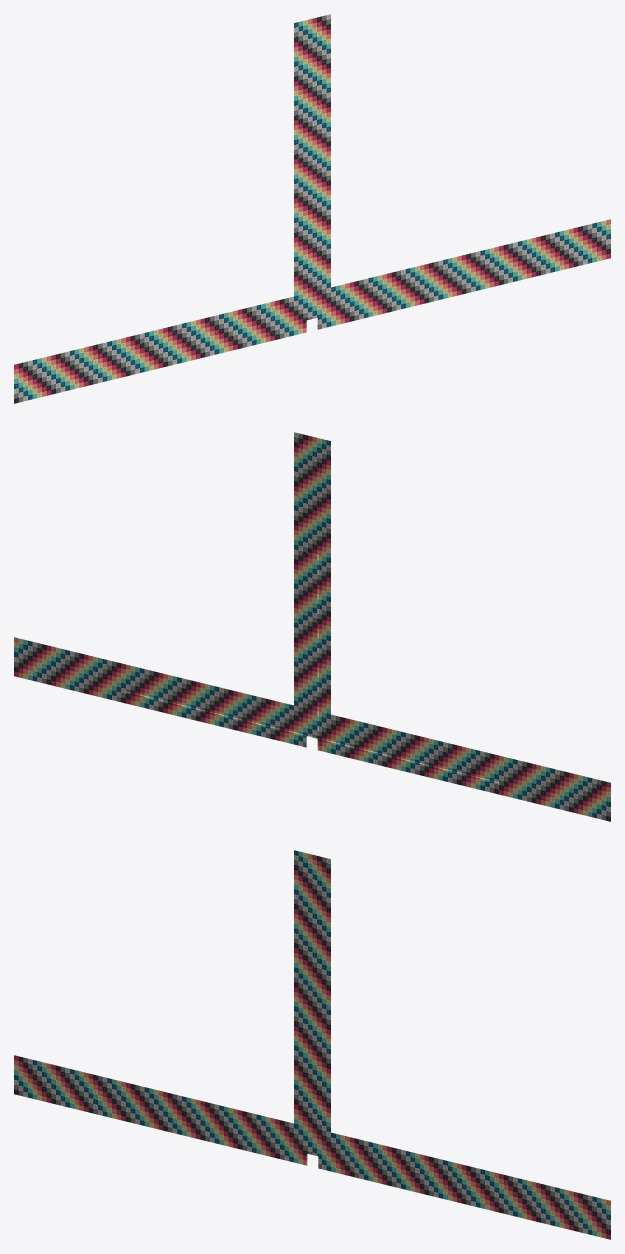
Rendered from wallManualMorph.glb.
3 renders of one model, top to bottom at view 1: azimuth 30°, elevation 25°; view 2: azimuth 150°, elevation 25°; view 3: azimuth 330°, elevation 25°, orthographic.
Visible parts, largest first — view 1: wallMaxWidth, wallHoleMaxWidth, wallMaxHeight, wallHoleMaxHeight, wall; view 2: wallMaxWidth, wallMaxHeight, wallHoleMaxWidth, wallHoleMaxHeight, wall; view 3: wallMaxWidth, wallHoleMaxWidth, wallMaxHeight, wallHoleMaxHeight, wall.
Boxes of the visible parts, x1,y1,x2,y2 form: wallMaxWidth: [14, 219, 610, 403]; wallHoleMaxWidth: [133, 246, 499, 371]; wallMaxHeight: [294, 14, 330, 322]; wallHoleMaxHeight: [294, 133, 330, 334]; wall: [294, 289, 330, 335]; wallMaxWidth: [14, 637, 610, 821]; wallMaxHeight: [294, 432, 330, 740]; wallHoleMaxWidth: [125, 665, 499, 794]; wallHoleMaxHeight: [294, 549, 330, 752]; wall: [294, 705, 330, 753]; wallMaxWidth: [14, 1055, 610, 1239]; wallHoleMaxWidth: [125, 1082, 428, 1191]; wallMaxHeight: [294, 850, 330, 1158]; wallHoleMaxHeight: [294, 968, 330, 1170]; wall: [294, 1124, 330, 1171].
Size of the model in its own units: 16 by 8 by 0.015.
1 material, 1 textured.
